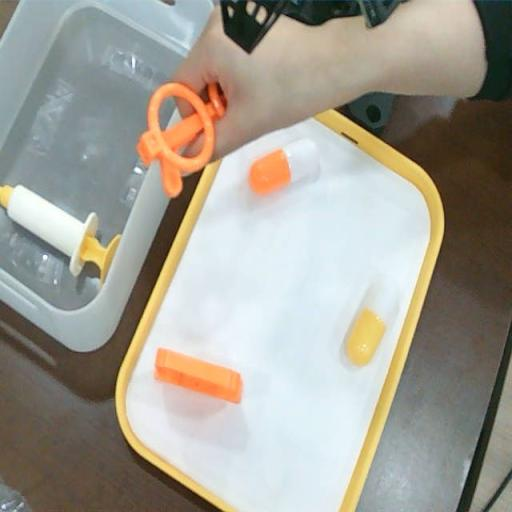hospital: (203, 8, 335, 160)
